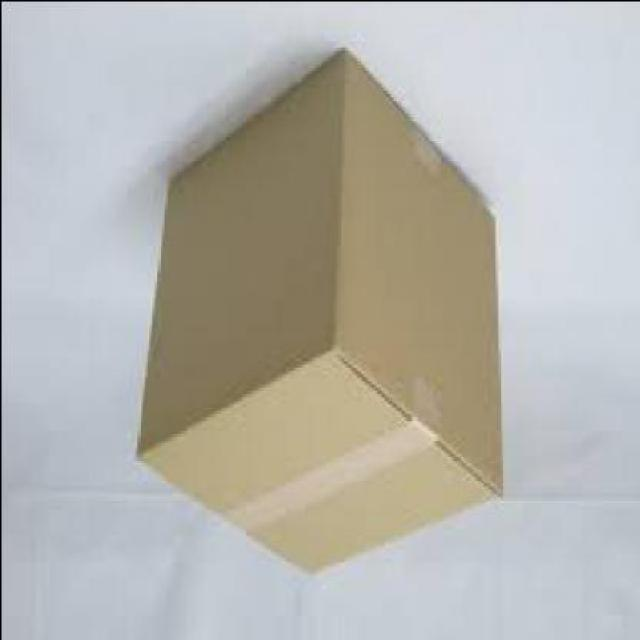CARDBOARD: (136, 49, 502, 577)
